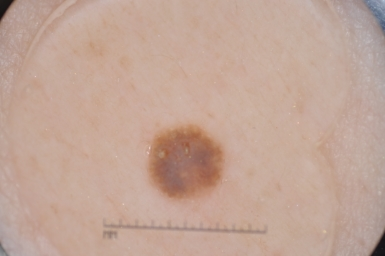seborrheic keratosis: (127, 111, 238, 211)
